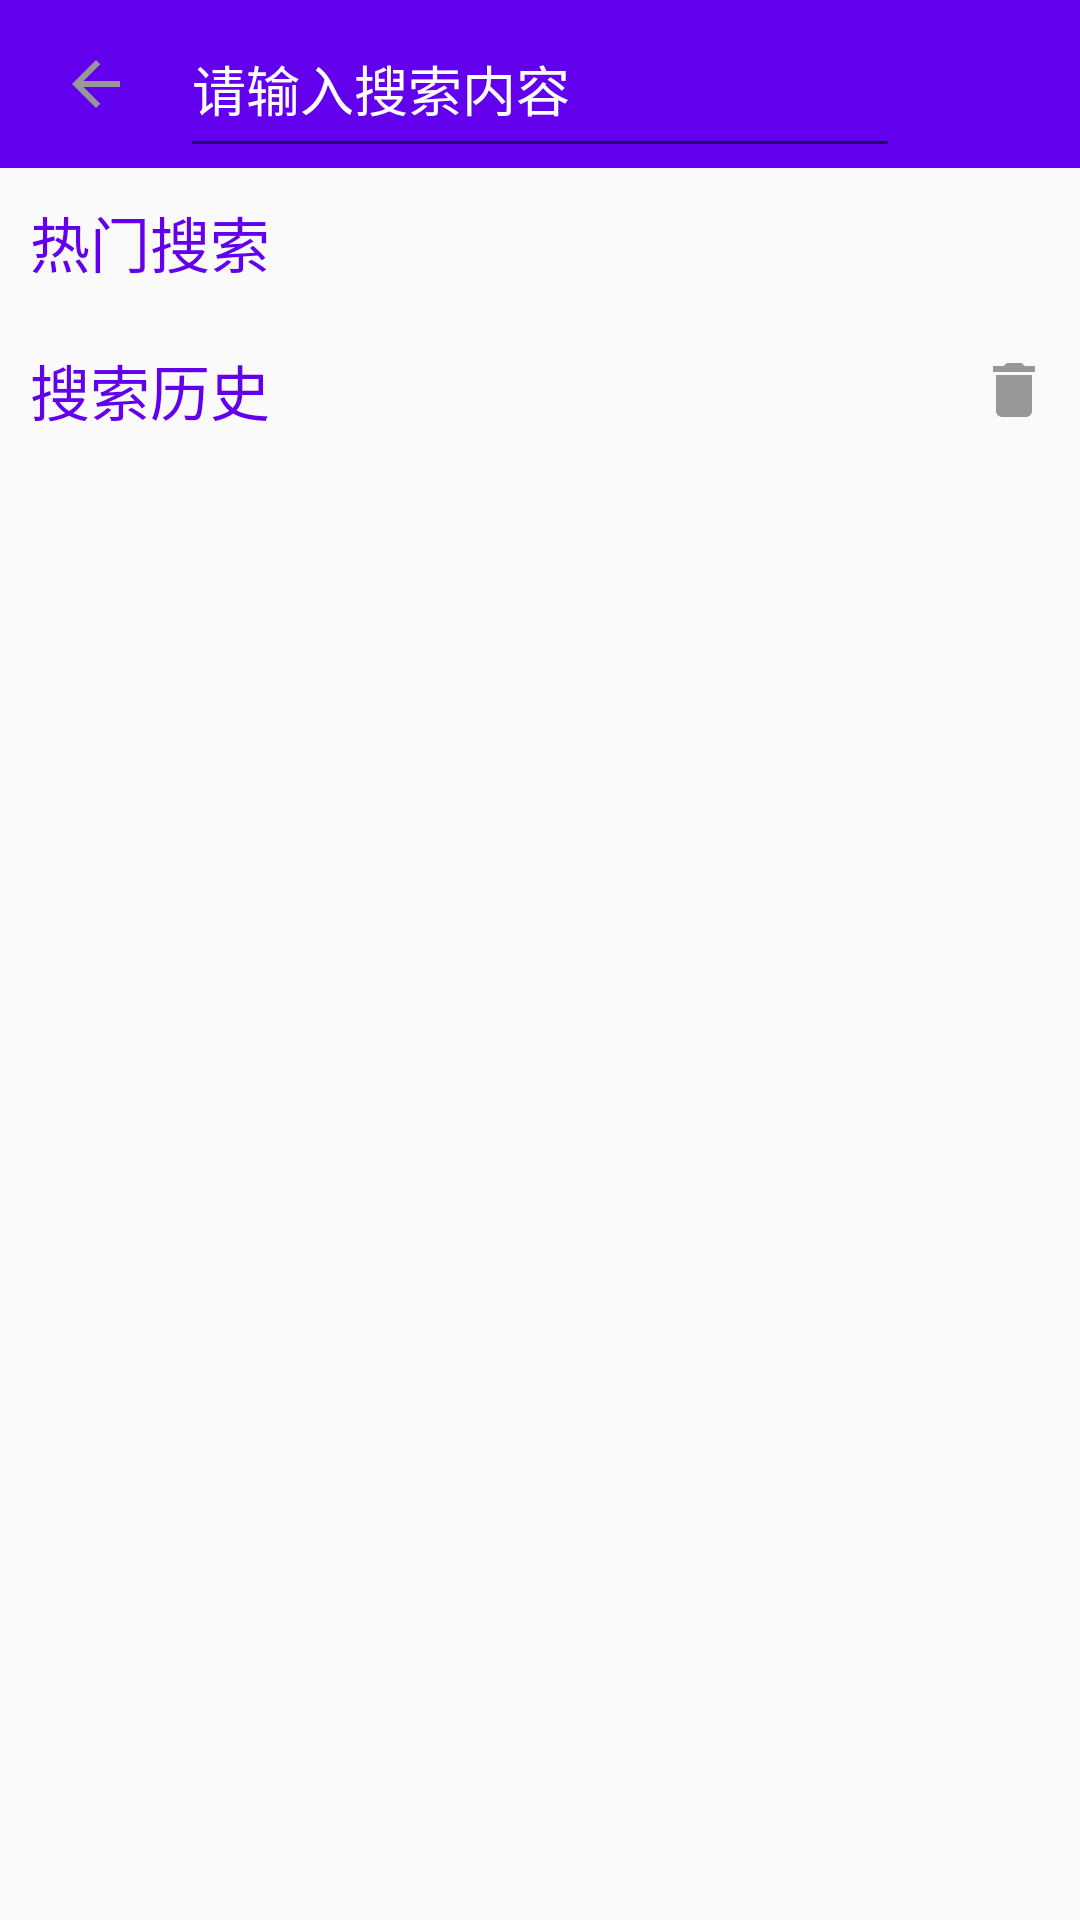

Named icons in this screenshot (1080*1920) and their bounding boxes, (x1, y1, x2, y2):
arrow back: (72, 60, 120, 108)
